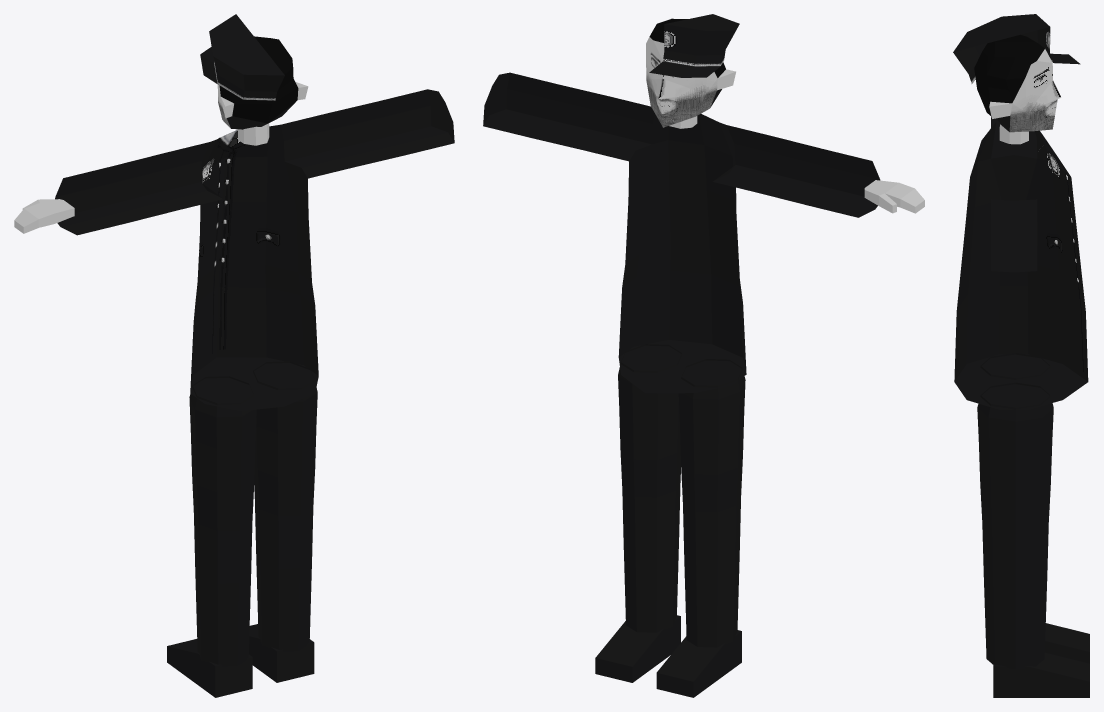
The model's file is modelodarielaugustus.gltf.
3 renders of one model, left to right at view 1: azimuth 30°, elevation 25°; view 2: azimuth 150°, elevation 25°; view 3: azimuth 270°, elevation 25°, orthographic.
Parts seen in each view (by area): view 1: Blusa, Perna Dir, Chapeu, Cabeça, Pé Esq, Pé Dir, Mão Esquerda; view 2: Blusa, Perna Dir, Cabeça, Chapeu, Pé Esq, Pé Dir, Mão Esquerda; view 3: Blusa, Perna Dir, Cabeça, Pé Dir, Chapeu, Pé Esq, Pescoço.
Boxes of the visible parts, bbox=[...] form: Blusa: bbox=[55, 89, 454, 410]; Perna Dir: bbox=[189, 361, 317, 666]; Chapeu: bbox=[200, 14, 284, 100]; Cabeça: bbox=[217, 36, 308, 129]; Pé Esq: bbox=[167, 639, 252, 697]; Pé Dir: bbox=[249, 624, 314, 682]; Mão Esquerda: bbox=[14, 199, 74, 233]; Blusa: bbox=[483, 72, 880, 393]; Perna Dir: bbox=[618, 344, 745, 647]; Cabeça: bbox=[646, 18, 735, 127]; Chapeu: bbox=[649, 14, 739, 77]; Pé Esq: bbox=[656, 630, 741, 697]; Pé Dir: bbox=[595, 615, 680, 682]; Mão Esquerda: bbox=[864, 180, 924, 213]; Blusa: bbox=[954, 116, 1088, 409]; Perna Dir: bbox=[977, 353, 1053, 669]; Cabeça: bbox=[974, 34, 1061, 132]; Pé Dir: bbox=[993, 652, 1089, 697]; Chapeu: bbox=[953, 14, 1080, 83]; Pé Esq: bbox=[1045, 623, 1089, 663]; Pescoço: bbox=[999, 124, 1028, 144].
Size of the model in its own units: 2.72 by 3.92 by 0.7524.
Materials: 1 (1 with a texture image).
